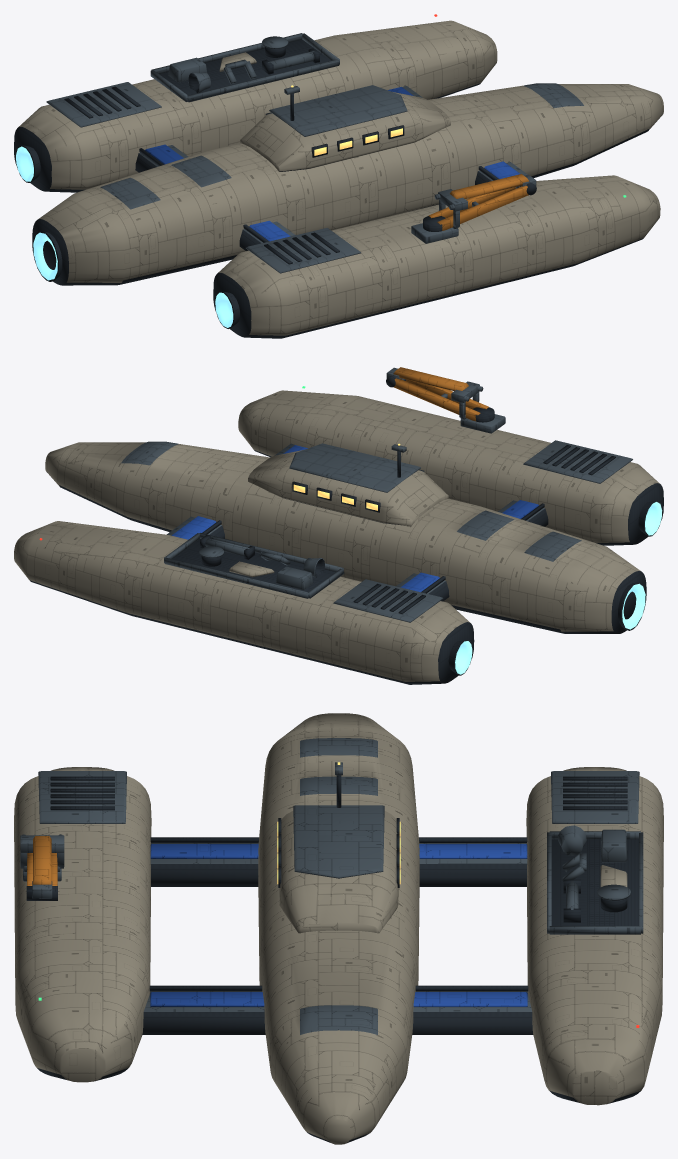
Rendered from sable_patchwork_lod2.glb.
The picture shows the model from 3 angles, top to bottom: view 1: azimuth 30°, elevation 25°; view 2: azimuth 150°, elevation 25°; view 3: azimuth 270°, elevation 25°; orthographic projection. The views are drawn at different scales.
Visible parts, largest first — view 1: LOD2_Hull, LOD2_Armor, LOD2_MechanicalDark, LOD2_HOOK_DRIVE_CORE, LOD2_MOTION_SABLE_ARM_BASE_Warning, LOD2_Livery, LOD2_MOTION_SABLE_ARM_ELBOW_Warning, LOD2_MOTION_SABLE_ARM_ELBOW_Armor; view 2: LOD2_Hull, LOD2_Armor, LOD2_MechanicalDark, LOD2_HOOK_DRIVE_CORE, LOD2_Livery, LOD2_MOTION_SABLE_ARM_BASE_Warning, LOD2_MOTION_SABLE_ARM_ELBOW_Warning, LOD2_MOTION_SABLE_ARM_ELBOW_Armor; view 3: LOD2_Hull, LOD2_Armor, LOD2_MechanicalDark, LOD2_Livery, LOD2_MOTION_SABLE_ARM_ELBOW_Warning, LOD2_MOTION_SABLE_ARM_ELBOW_Armor.
Part boxes in pixels (x1,y1,x2,y2): LOD2_Hull: (19,20,663,335); LOD2_Armor: (46,33,583,273); LOD2_MechanicalDark: (14,39,649,338); LOD2_HOOK_DRIVE_CORE: (16,146,233,327); LOD2_MOTION_SABLE_ARM_BASE_Warning: (428,185,528,230); LOD2_Livery: (145,87,519,241); LOD2_MOTION_SABLE_ARM_ELBOW_Warning: (449,174,528,198); LOD2_MOTION_SABLE_ARM_ELBOW_Armor: (434,174,536,211); LOD2_Hull: (14,390,659,681); LOD2_Armor: (121,414,632,622); LOD2_MechanicalDark: (30,407,663,684); LOD2_HOOK_DRIVE_CORE: (455,502,662,674); LOD2_Livery: (172,445,538,592); LOD2_MOTION_SABLE_ARM_BASE_Warning: (393,378,488,421); LOD2_MOTION_SABLE_ARM_ELBOW_Warning: (393,367,468,390); LOD2_MOTION_SABLE_ARM_ELBOW_Armor: (386,367,483,402); LOD2_Hull: (14,713,663,1144); LOD2_Armor: (23,738,643,1034); LOD2_MechanicalDark: (37,775,640,1143); LOD2_Livery: (150,844,527,1006); LOD2_MOTION_SABLE_ARM_ELBOW_Warning: (33,836,51,884); LOD2_MOTION_SABLE_ARM_ELBOW_Armor: (20,834,64,898).
Size of what is drawn, in the model's own units: 33.77 by 7.46 by 24.1.
10 materials, 5 textured.
